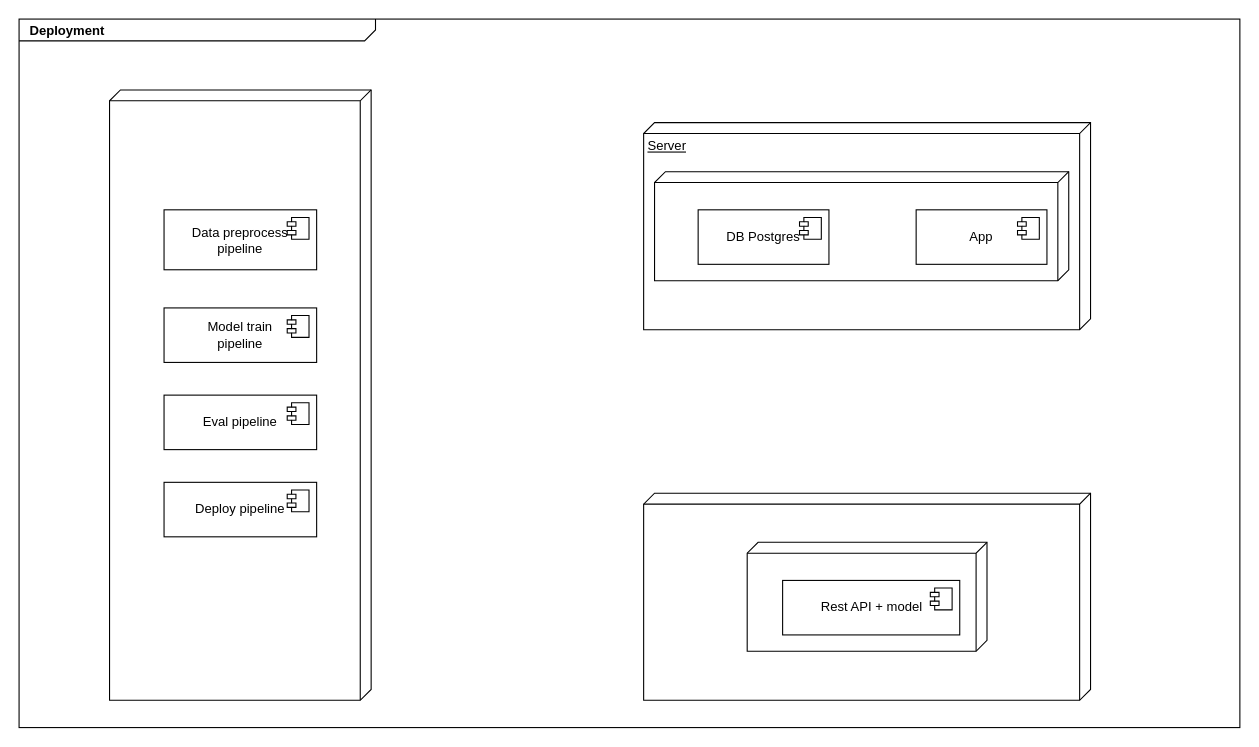
Some shapes in this 1259 by 747 pixel diagram are drawn without their labels. The box of each missing label's shape, as (x1, y1, x2, y2) in pixels:
Block: (108, 89, 371, 700)
Docker env: (653, 171, 1069, 281)
Docker hub: (643, 492, 1091, 700)
Docker images: (746, 541, 987, 651)
